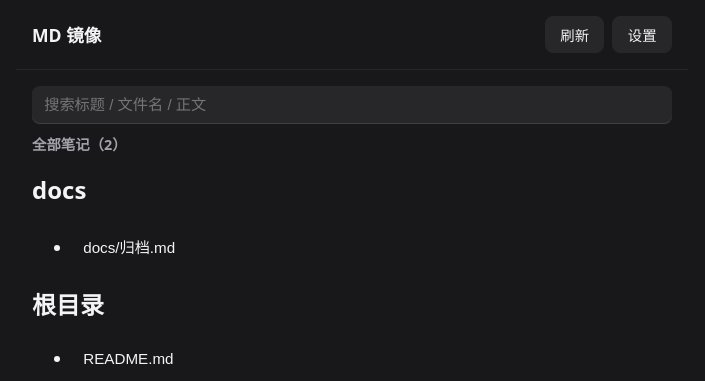
Test: 首页全局搜索（集成） › 正文命中 → 文件名主行 + 正文摘录，无标题行
The width and height of the screenshot is (705, 381).
Type "下雨" into the search field with class "search-input".
click(352, 105); type("下雨")  # box [32,86,672,123]
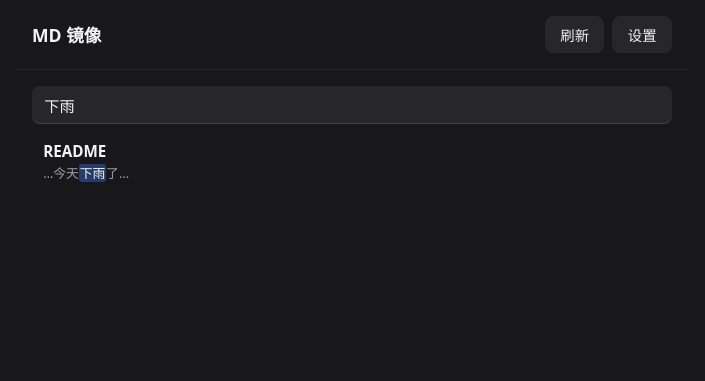
Now the number of elements with class "search-item" is 1, box [43,141,129,182]
Now the element with class "search-item__snippet" shows "今天下雨了", box [43,164,129,182]
Now the text "docs/" is gone
